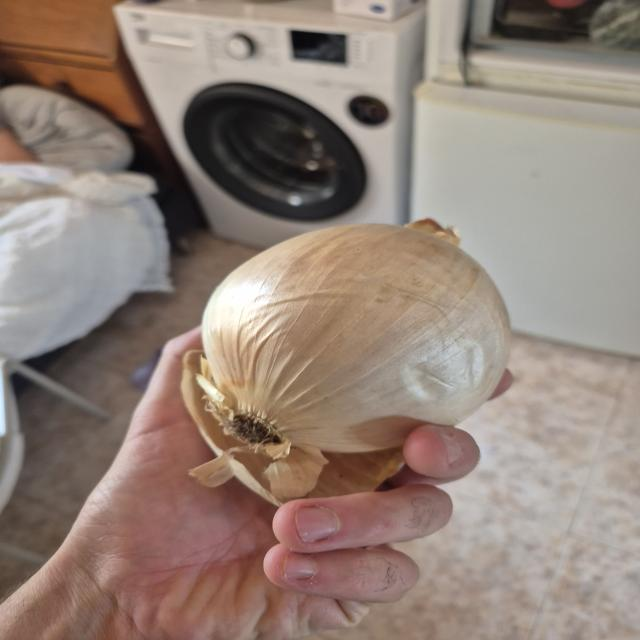cebolla: (198, 224, 512, 453)
